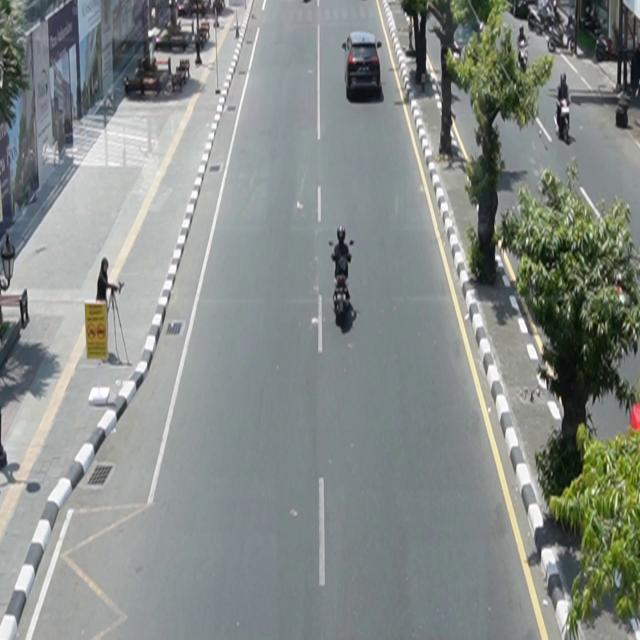car: (342, 31, 383, 97)
